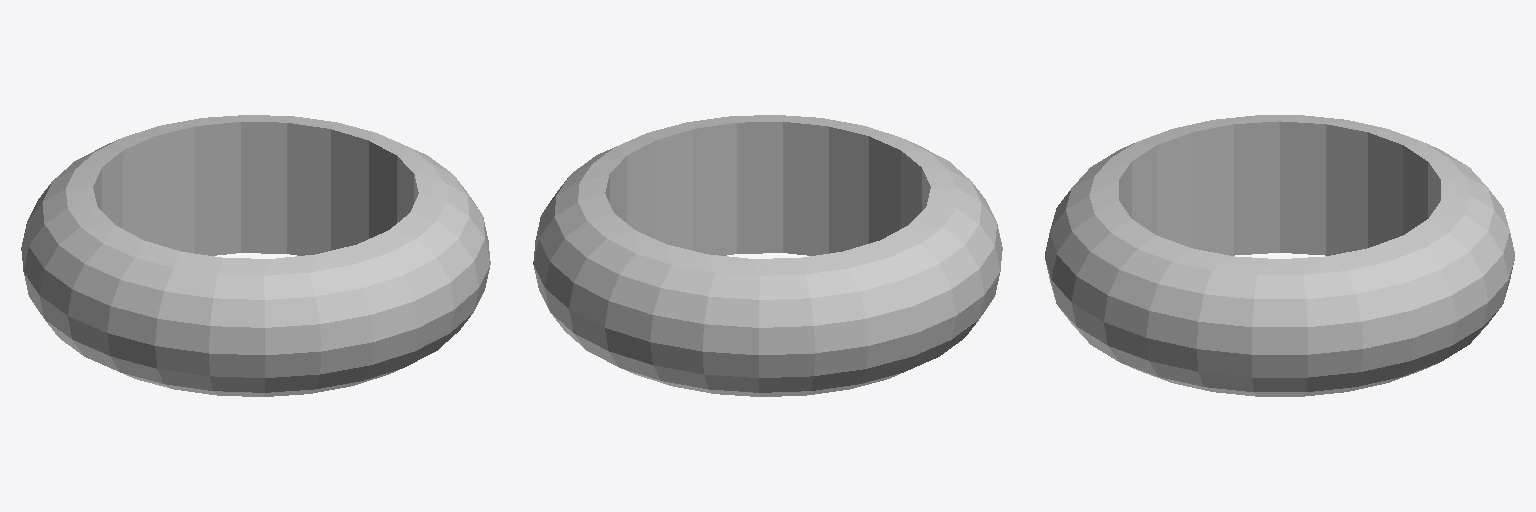
File: Joystick-Left-Ring.obj
The picture shows the model from 3 angles: view 1: azimuth 30°, elevation 25°; view 2: azimuth 150°, elevation 25°; view 3: azimuth 270°, elevation 25°; orthographic projection.
Visible parts, largest first — view 1: Joystick-Left-Ring; view 2: Joystick-Left-Ring; view 3: Joystick-Left-Ring.
Boxes of the visible parts, x1=… form: Joystick-Left-Ring: x1=21, y1=115, x2=490, y2=396; Joystick-Left-Ring: x1=533, y1=115, x2=1002, y2=396; Joystick-Left-Ring: x1=1045, y1=115, x2=1514, y2=396.
Size of the model in its own units: 12.91 by 4 by 13.